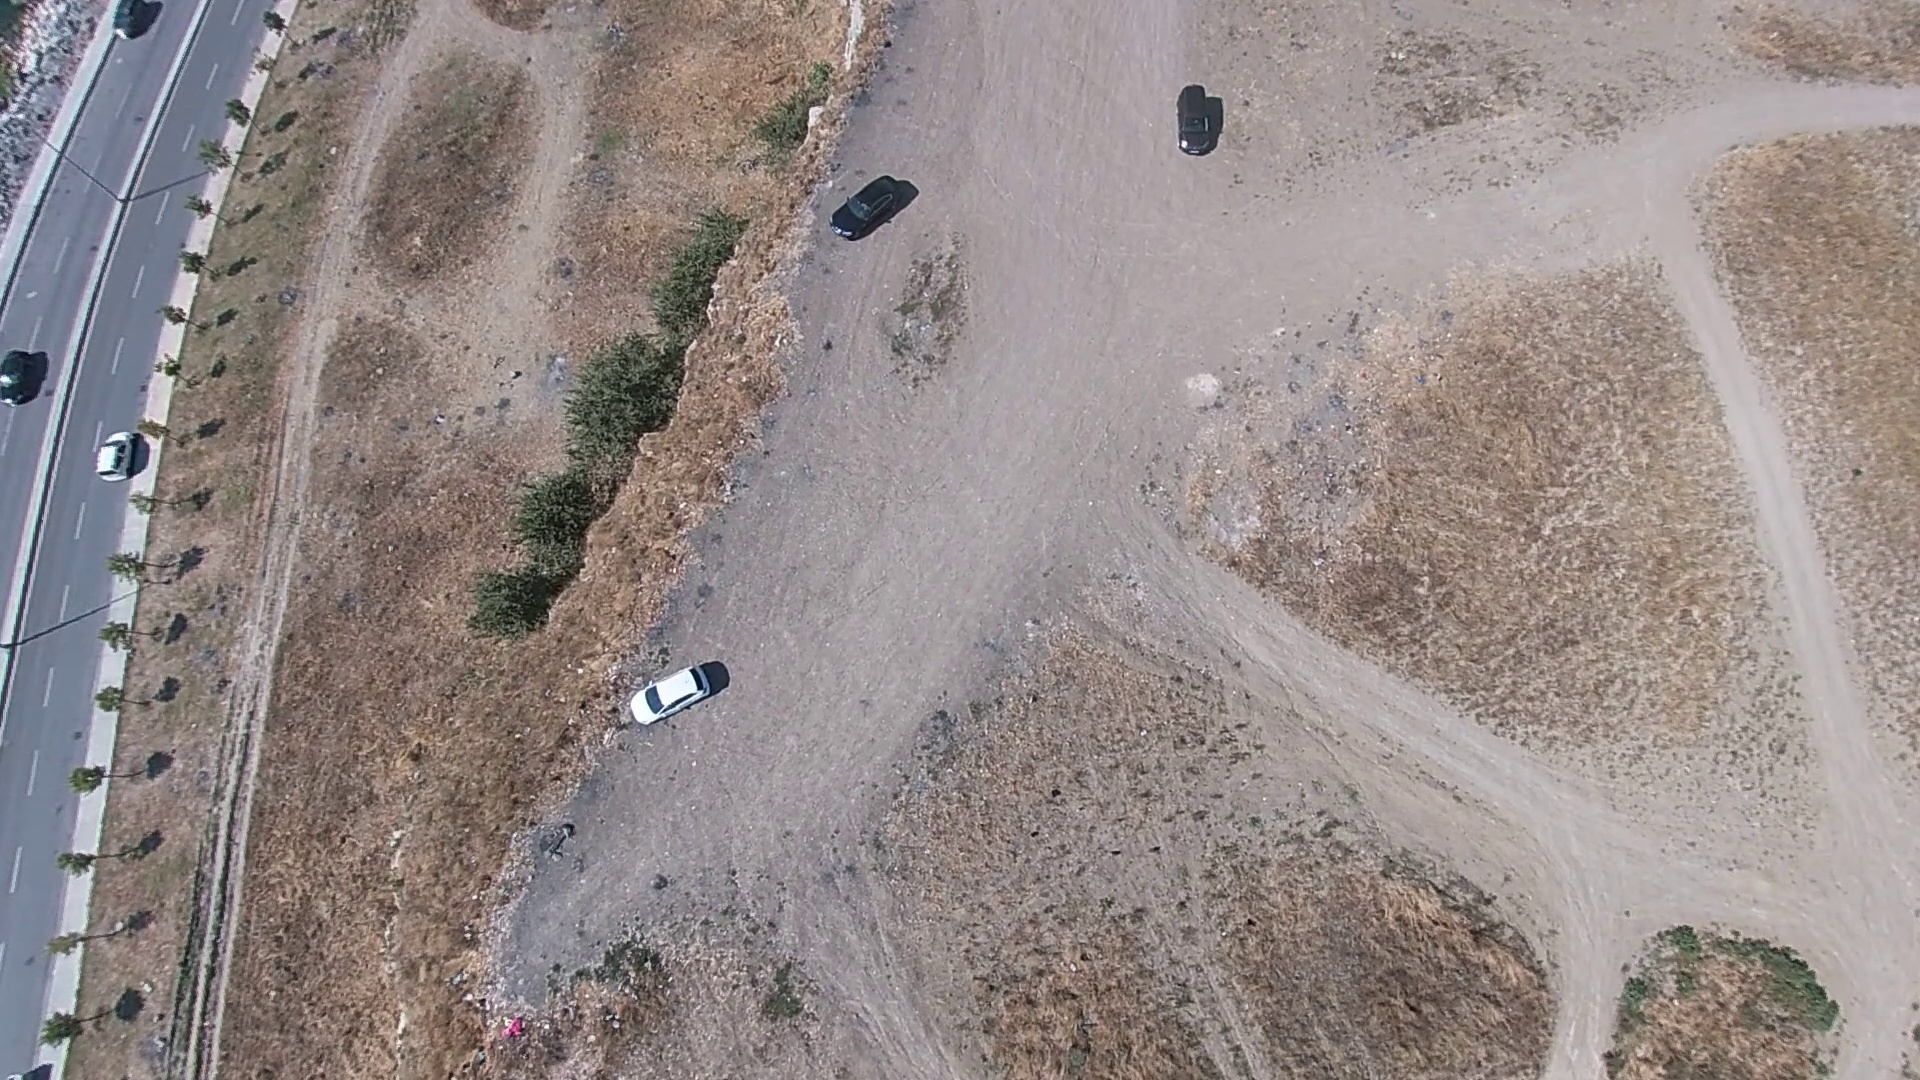arac: (624, 661, 728, 728), (825, 173, 910, 237), (1175, 84, 1226, 156), (87, 427, 141, 484), (1, 345, 47, 396)
